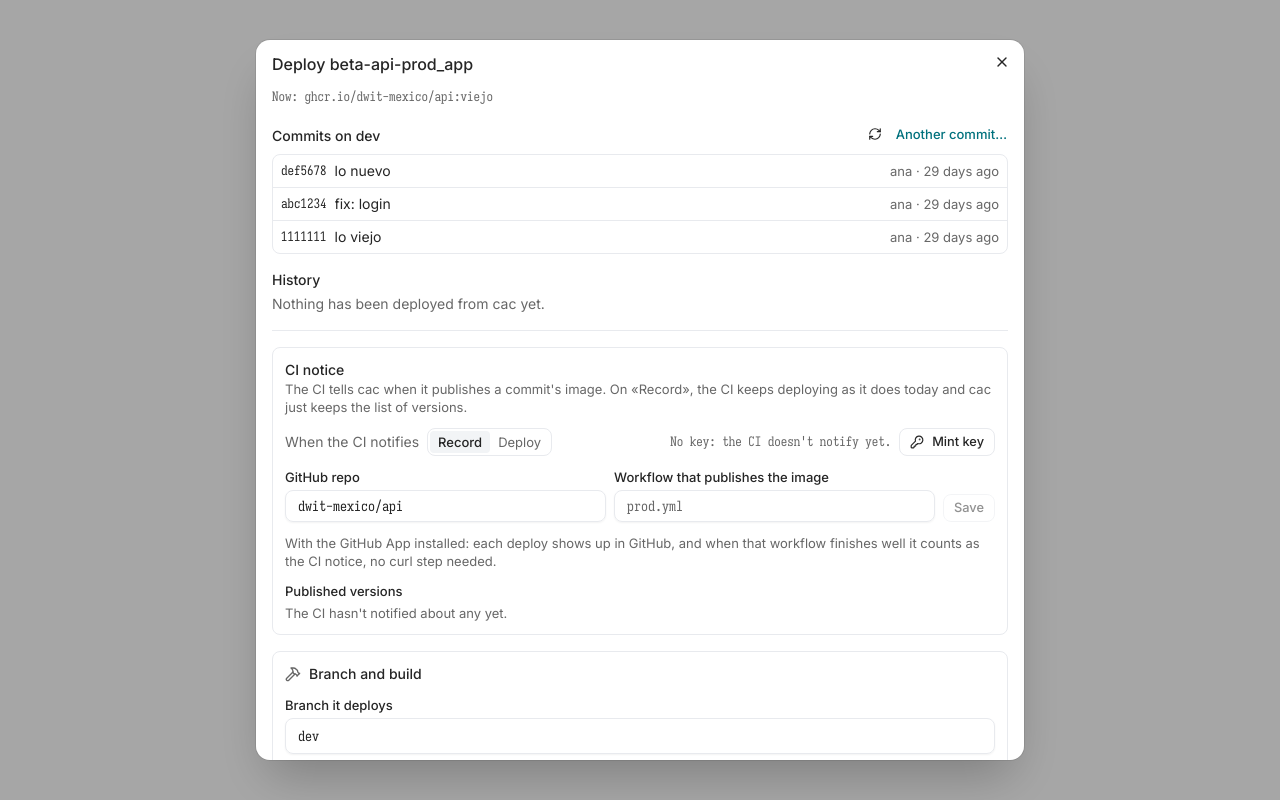
Test: qué commit se despliega › otro commit se escribe a mano, detrás de «Otro commit…»
Click the button "Another commit…".
click(951, 134)  # box [895,124,1008,144]
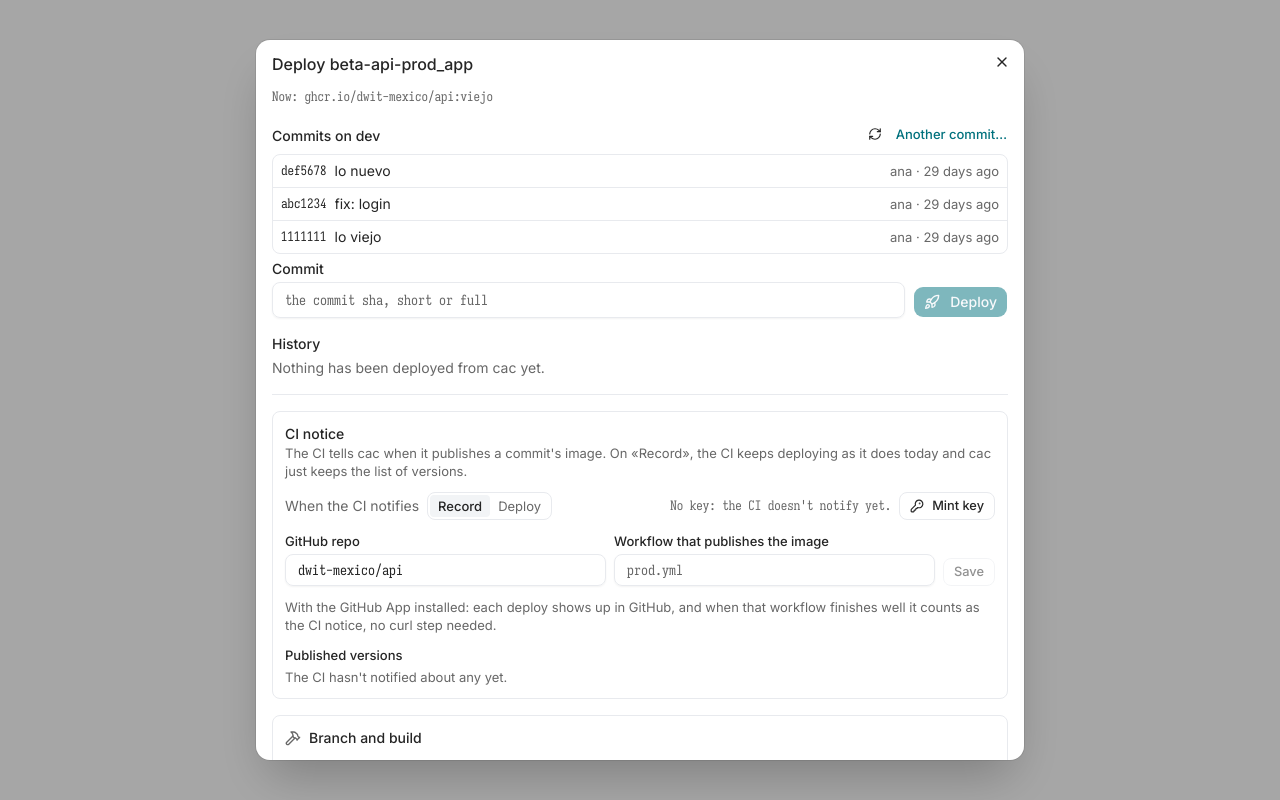
Type "9999999" into the field labelled "Commit".
click(589, 300); type("9999999")  # box [272,282,905,318]
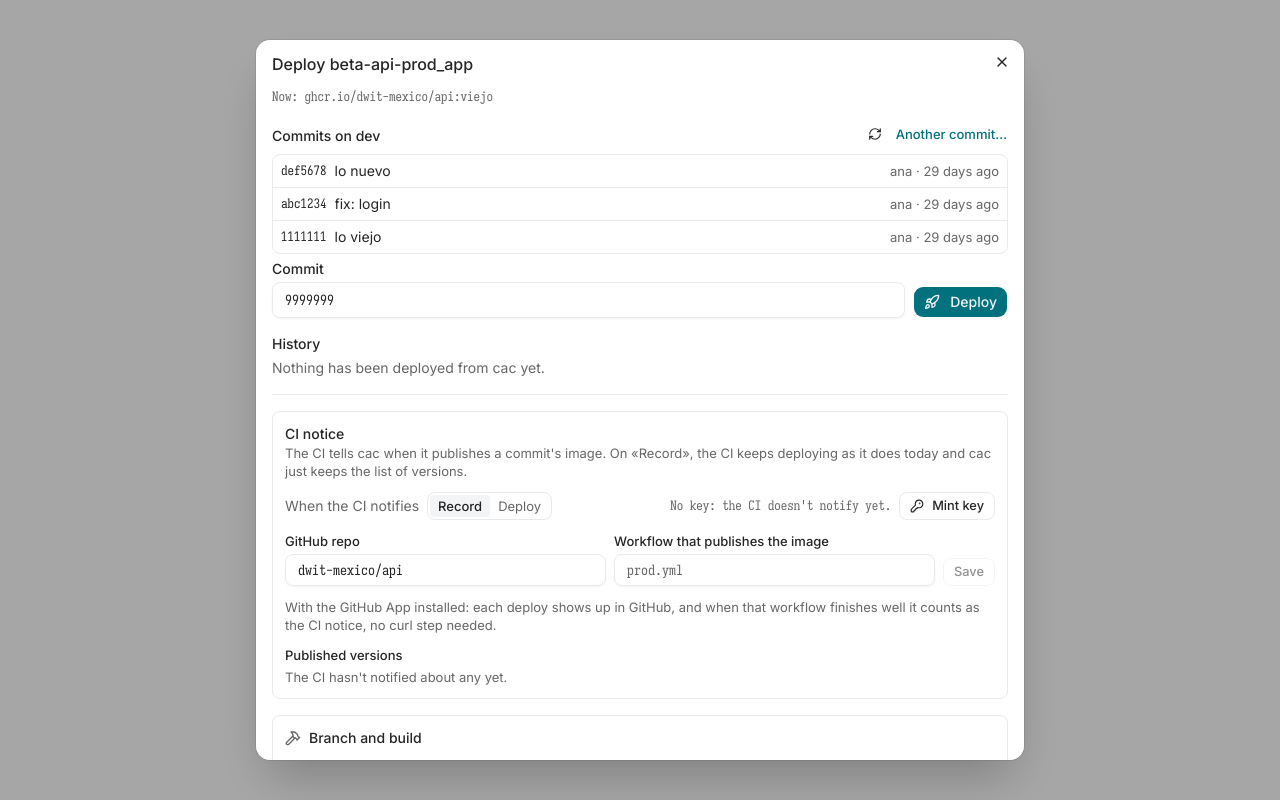
Now the button "Deploy" is enabled, box [913,286,1008,318]
